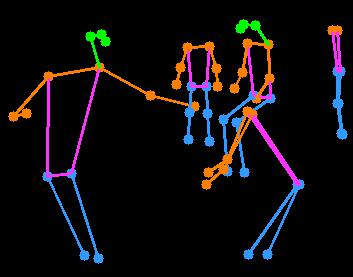normal: (168, 34, 226, 151)
